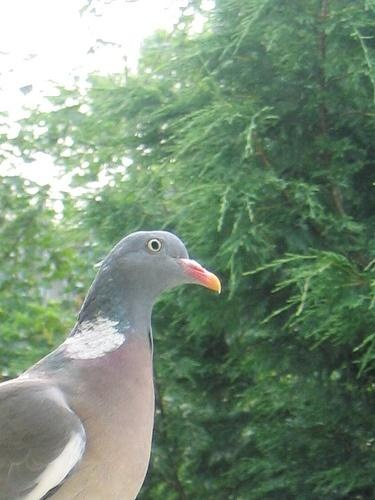bird: (1, 231, 227, 500)
